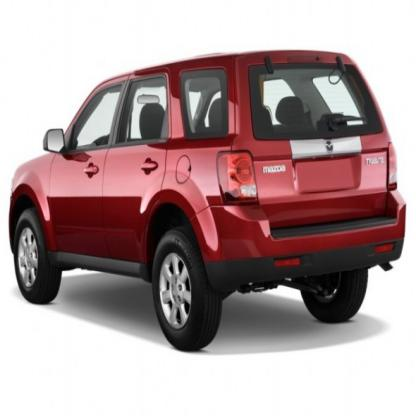Vehicle: (9, 49, 409, 355)
